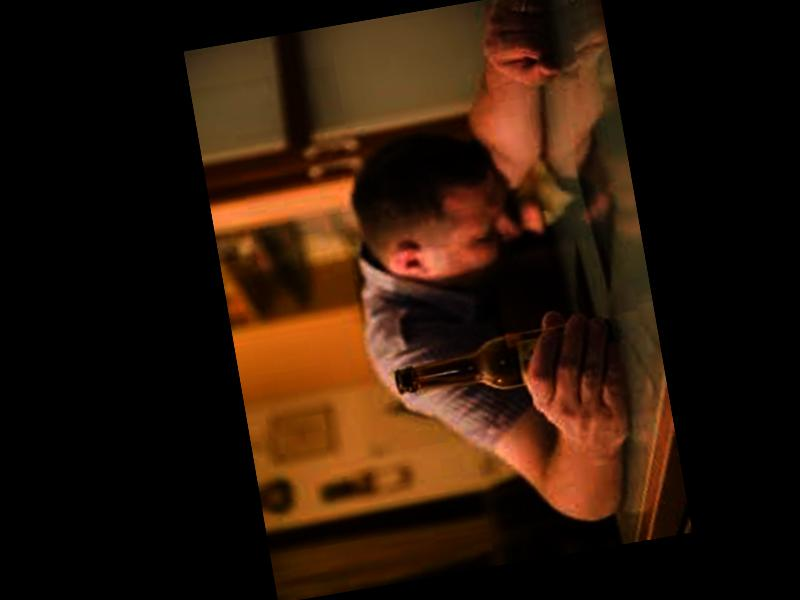Beer: (390, 318, 620, 404)
